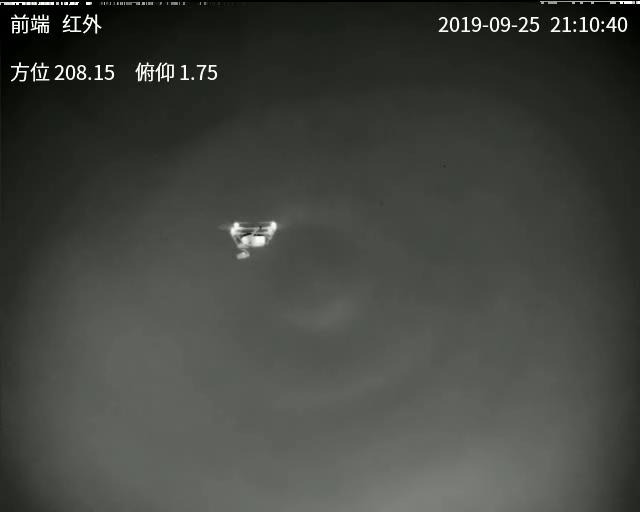uav: (225, 218, 279, 261)
